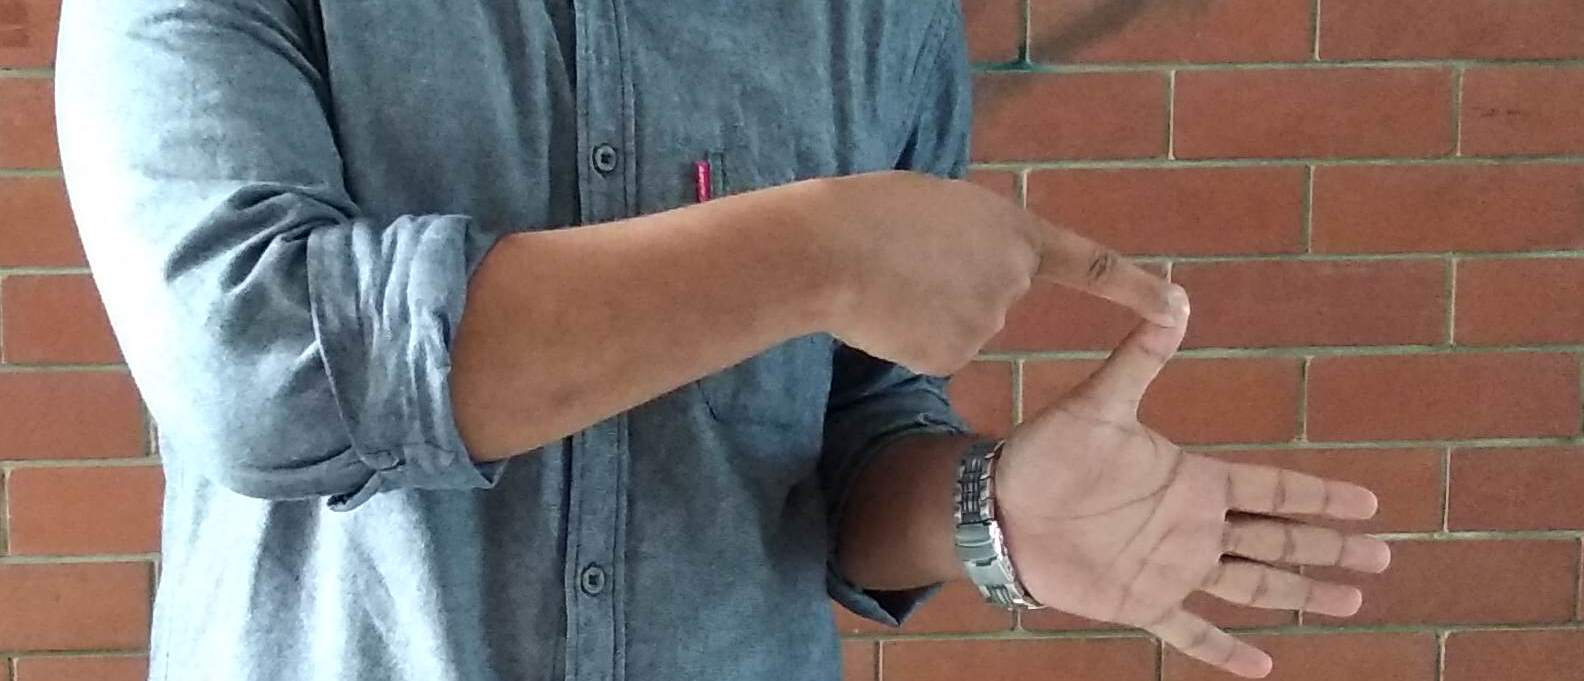a: (838, 193, 1402, 681)
